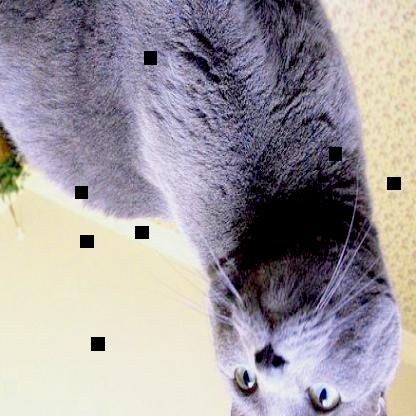cat: (1, 2, 403, 416)
